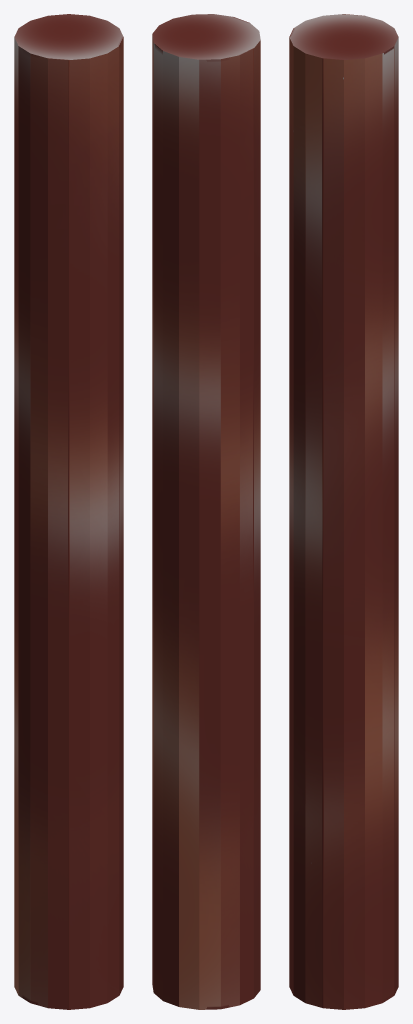
File: lightStick.obj
The picture shows the model from 3 angles, left to right: view 1: azimuth 90°, elevation 25°; view 2: azimuth 150°, elevation 25°; view 3: azimuth 270°, elevation 25°; orthographic projection.
Parts seen in each view (by area): view 1: 円; view 2: 円; view 3: 円.
Part boxes in pixels (x1,y1,x2,y2): 円: [14, 14, 123, 1009]; 円: [152, 14, 260, 1009]; 円: [289, 14, 398, 1009].
Size of the model in its own units: 0.6441 by 6.17 by 0.6441.
Materials: 1 (1 with a texture image).
